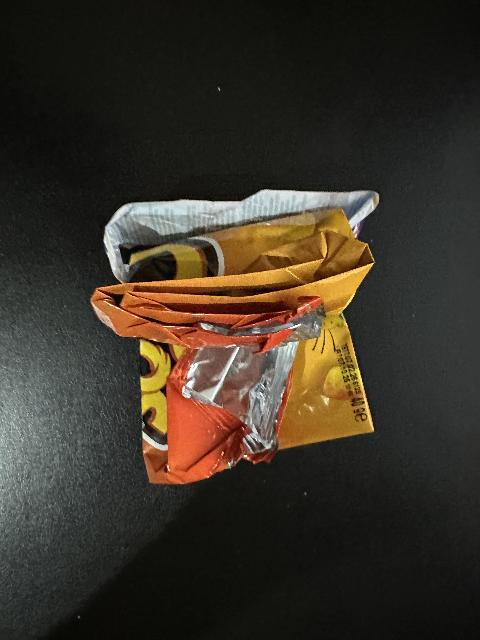Plastik: (92, 184, 378, 483)
